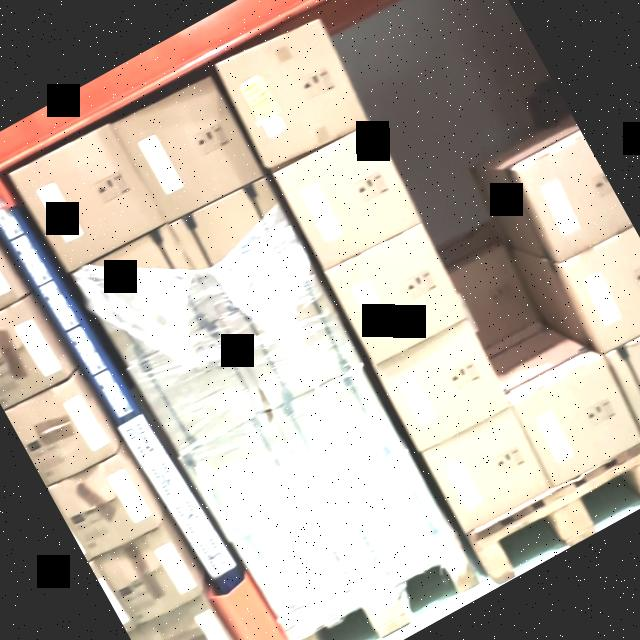box: (215, 9, 370, 172), (113, 70, 267, 226), (10, 121, 164, 275), (277, 124, 424, 271), (168, 176, 312, 318), (222, 274, 364, 417), (328, 226, 469, 368), (76, 227, 216, 368), (128, 322, 266, 460), (417, 398, 552, 534), (510, 355, 640, 490), (274, 364, 406, 494), (233, 496, 365, 624), (322, 446, 450, 574), (382, 324, 509, 450), (186, 416, 313, 540), (601, 313, 640, 443)
